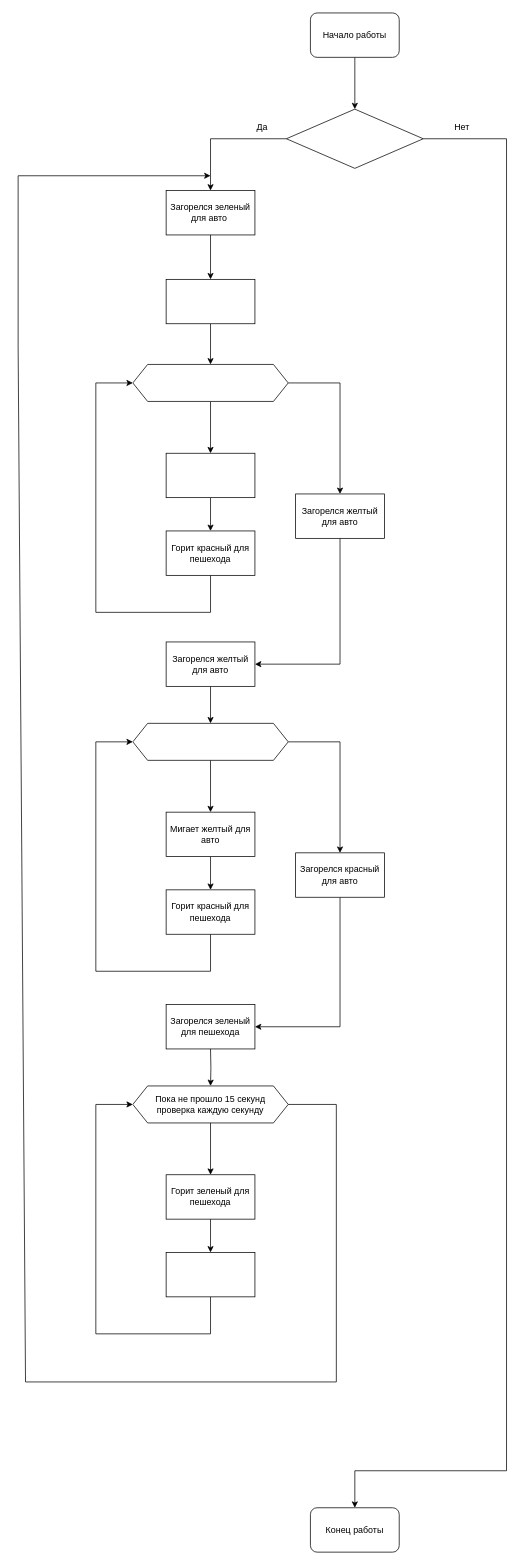
Image size: 525x1565. Some labels were removed from this diagram. The centre of each missing label's shape, as x and y in pixels:
"Горит зеленый для авто" belongs at pixel 210 475.
"Горит красный для авто" belongs at pixel 210 1274.
"Для пешехода горит красный" belongs at pixel 210 301.
"Подается ли питание на светофор?" belongs at pixel 354 138.
"Пока не прошло 20 секунд проверка каждую секунду" belongs at pixel 210 382.
"Пока не прошло 5 секунд проверка каждую секунду" belongs at pixel 210 741.
